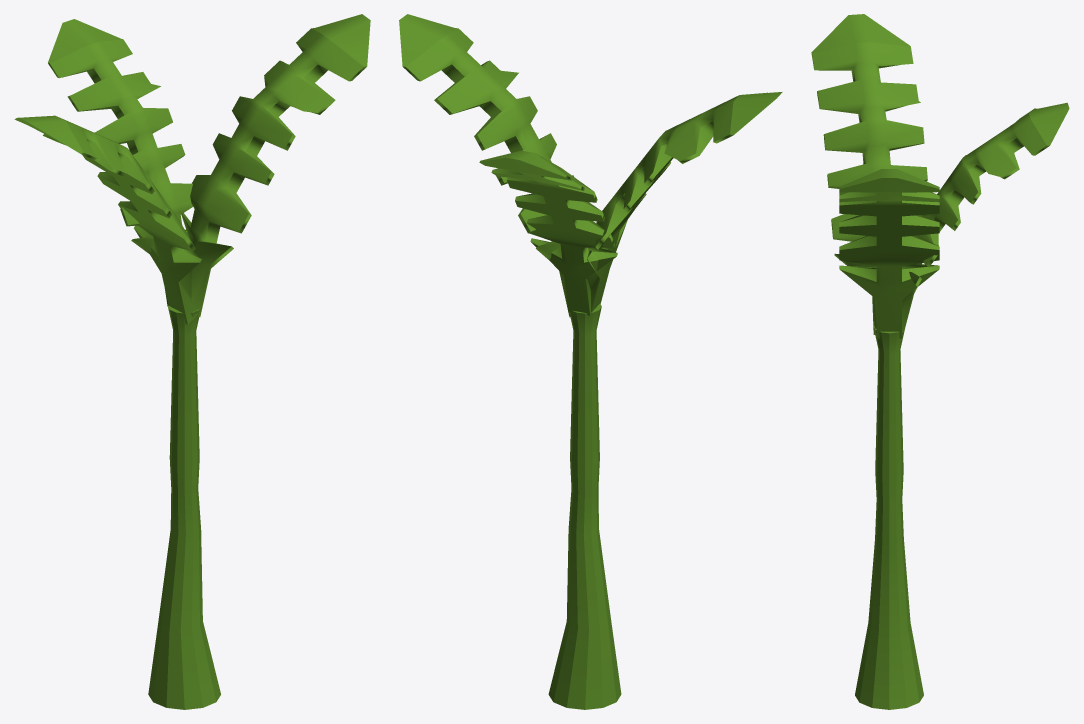
Rendered from tree5.fbx.
The picture shows the model from 3 angles, left to right: view 1: azimuth 30°, elevation 25°; view 2: azimuth 150°, elevation 25°; view 3: azimuth 270°, elevation 25°; orthographic projection. The views are drawn at different scales.
Parts seen in each view (by area): view 1: pCube2; view 2: pCube2; view 3: pCube2.
Part boxes in pixels (bbox=[...]): pCube2: bbox=[14, 14, 370, 709]; pCube2: bbox=[399, 14, 782, 709]; pCube2: bbox=[811, 14, 1069, 709].
Bounding box in the file's own units: 17.3 × 29.05 × 11.3.
